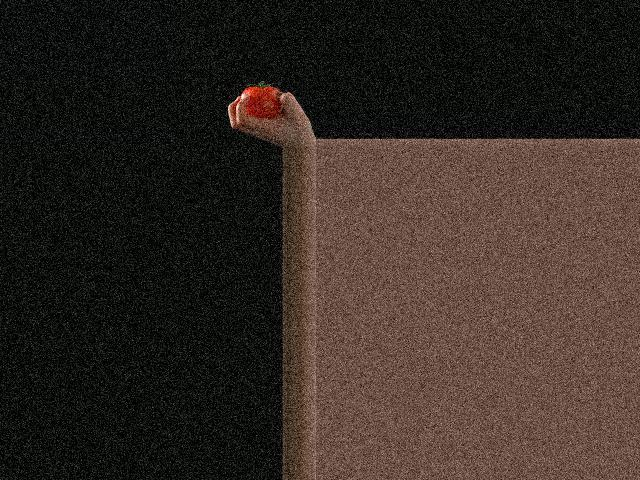tomato: (241, 82, 282, 117)
